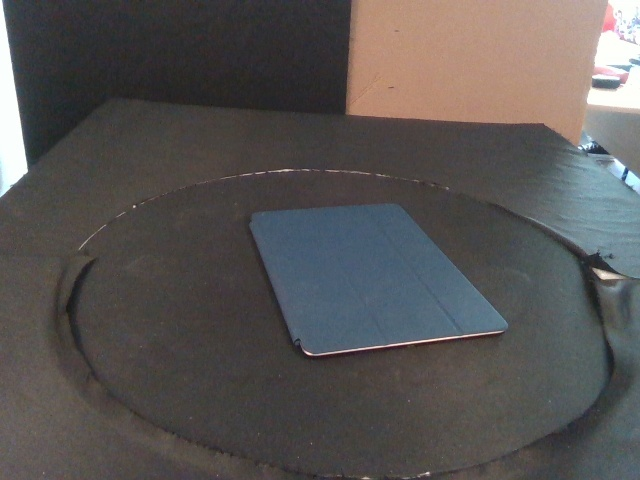laptop: (249, 203, 508, 359)
